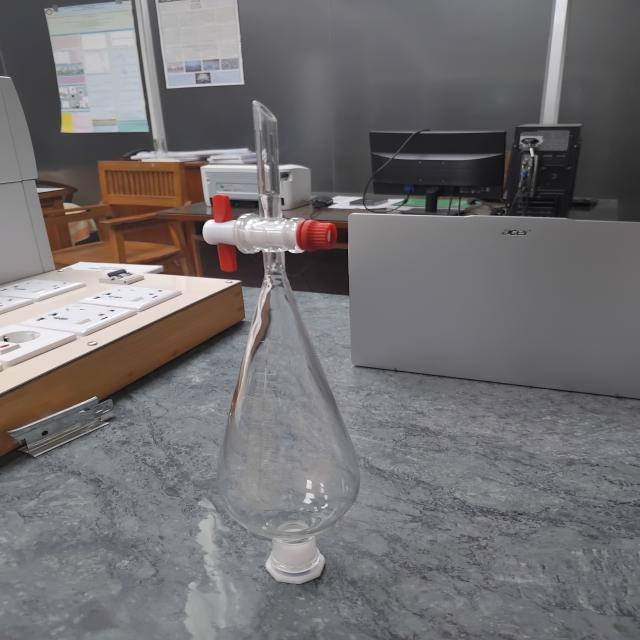Separating_Funnel: (157, 74, 427, 605)
